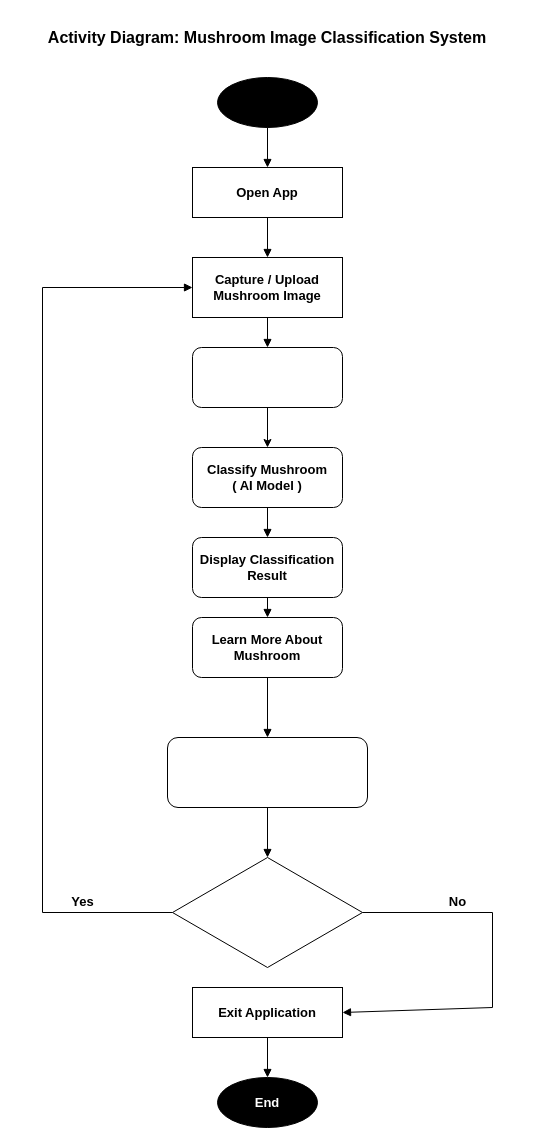
Image size: 534x1145. Some labels were removed from this diagram. The shapes that lost their labels are listed below. From the top down, each one's centre as x and y in pixels, then its label:
the point at 267,102: Start
the point at 267,377: Preprocess Image
the point at 267,772: Save Classification Result to Local History (Offline - User Device Only)
the point at 267,912: Classify Another Mushroom?
